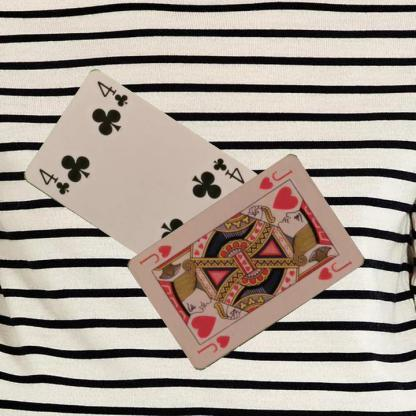4c: (210, 155, 245, 185), (36, 166, 70, 196)
Jh: (256, 167, 294, 192), (194, 332, 232, 356)
